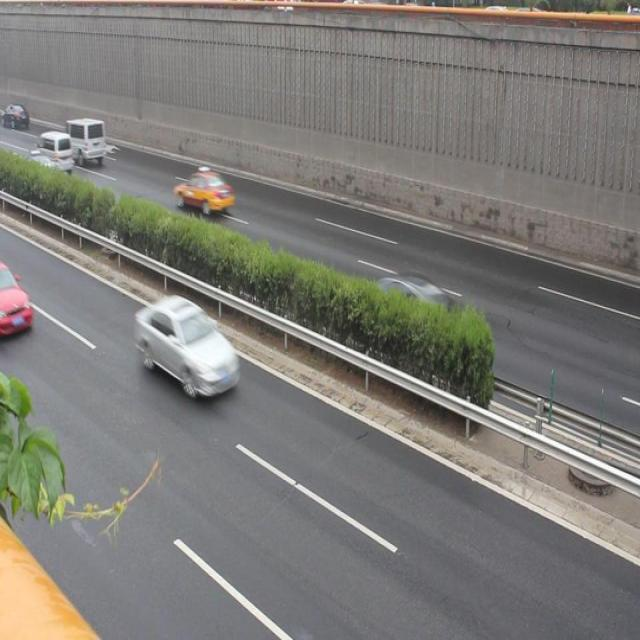car: (132, 285, 245, 400), (364, 264, 459, 342), (175, 166, 232, 219), (19, 150, 65, 193)
truck: (64, 115, 111, 162), (34, 132, 76, 174)
